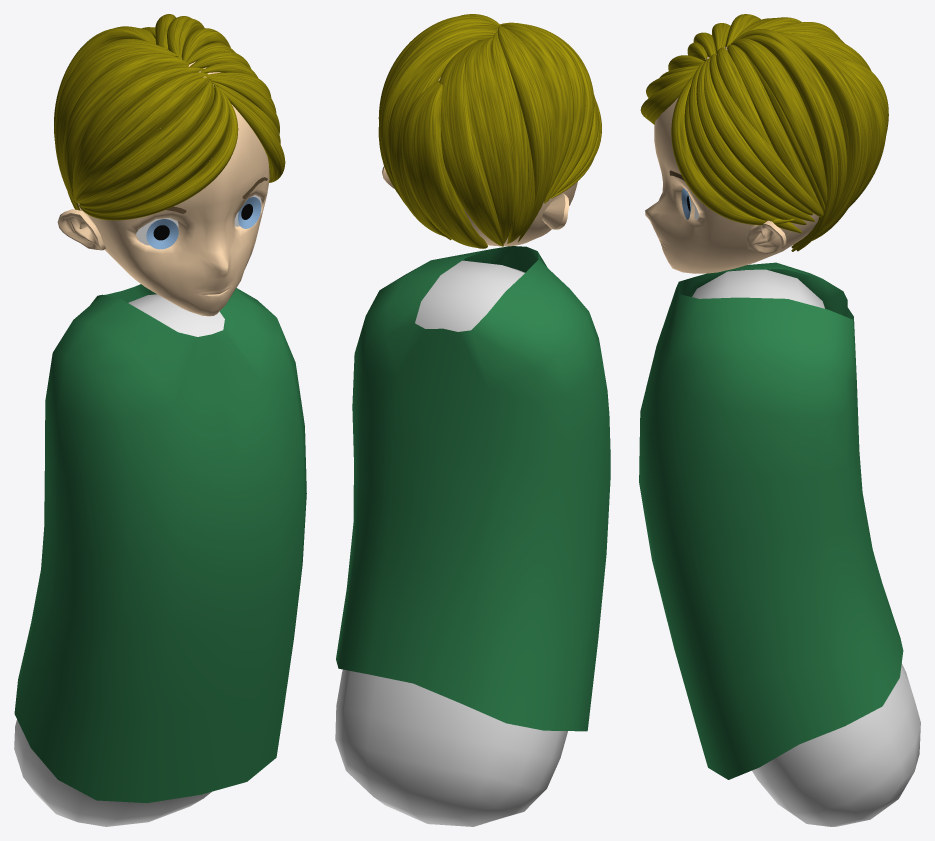
Rendered from Main NPC 2.fbx.
The picture shows the model from 3 angles, left to right: view 1: azimuth 30°, elevation 25°; view 2: azimuth 150°, elevation 25°; view 3: azimuth 270°, elevation 25°; orthographic projection. The views are drawn at different scales.
Parts seen in each view (by area): view 1: T-shirt.002, NurbsPath.029, Head with ears.002, body.001; view 2: T-shirt.002, NurbsPath.029, body.001, Head with ears.002; view 3: T-shirt.002, NurbsPath.029, body.001, Head with ears.002.
Boxes of the visible parts, left/top/right/bottom form: T-shirt.002: left=14, top=284, right=306, bottom=802; NurbsPath.029: left=54, top=14, right=285, bottom=220; Head with ears.002: left=57, top=59, right=269, bottom=316; body.001: left=14, top=294, right=224, bottom=826; T-shirt.002: left=336, top=246, right=610, bottom=731; NurbsPath.029: left=378, top=14, right=601, bottom=248; body.001: left=335, top=260, right=567, bottom=826; Head with ears.002: left=382, top=29, right=577, bottom=246; T-shirt.002: left=639, top=262, right=903, bottom=779; NurbsPath.029: left=640, top=14, right=888, bottom=251; body.001: left=692, top=269, right=920, bottom=826; Head with ears.002: left=645, top=46, right=818, bottom=273.
Bounding box in the file's own units: 2.68 × 8.84 × 2.87.
7 materials, 1 textured.
